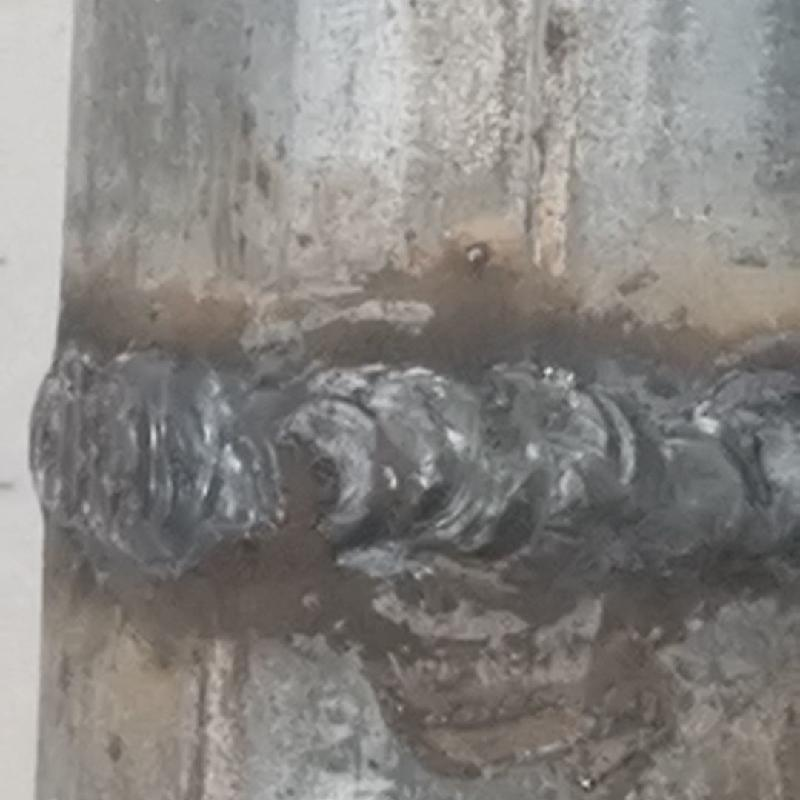good: (29, 324, 799, 588)
